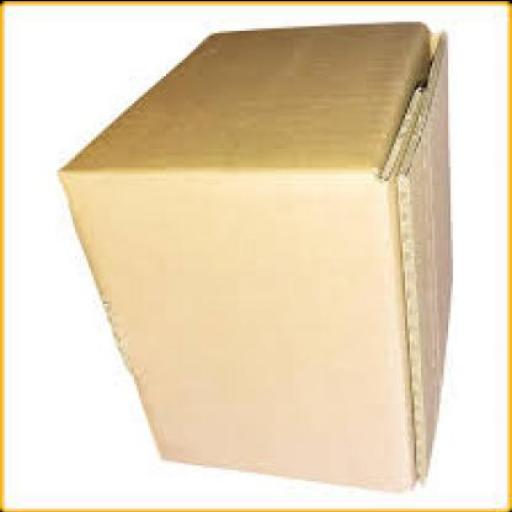cardboard: (61, 22, 453, 492)
